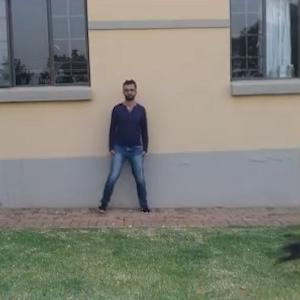follow: (107, 77, 148, 215)
